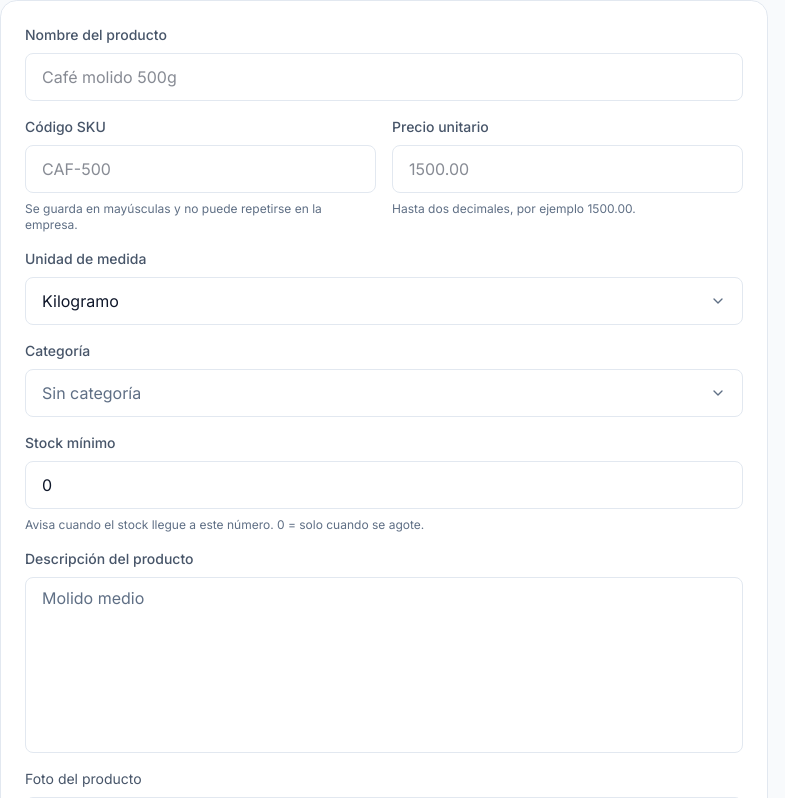
ProductForm (create) › offers the optional category with the company's categories
The width and height of the screenshot is (785, 798).
What coordinates should you click on to do the following:
click the dropdown labelled "categoría"
I would click on:
 (92, 393)
Its box is [25,369,743,417].
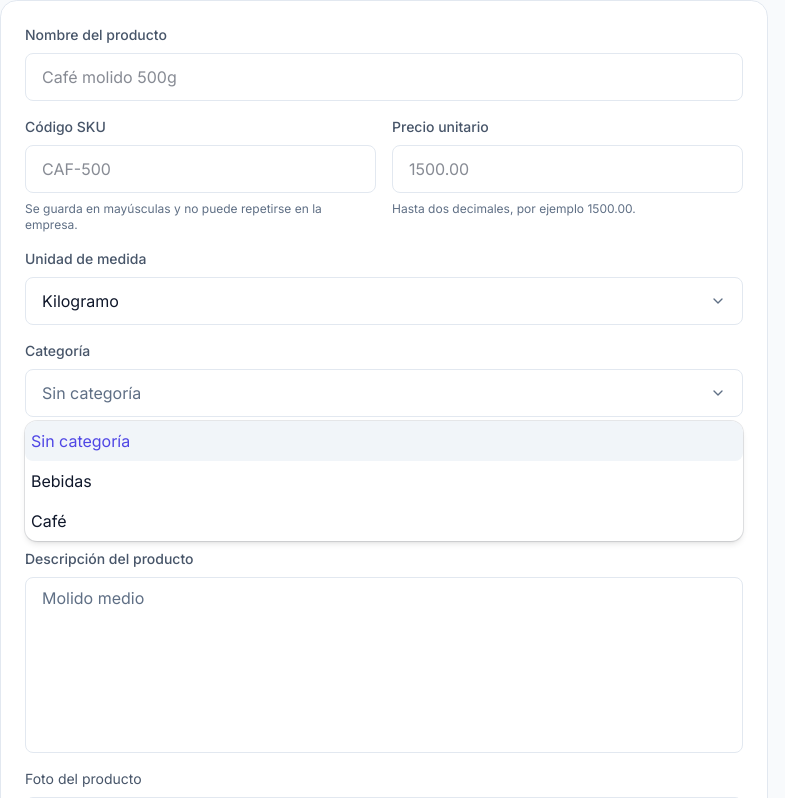
Check: the option "Bebidas" is shown, box [31,471,92,491]
Check: the option "Café" is shown, box [31,511,66,531]
